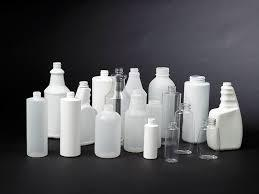Container for household chemicals: (8, 52, 252, 171)
